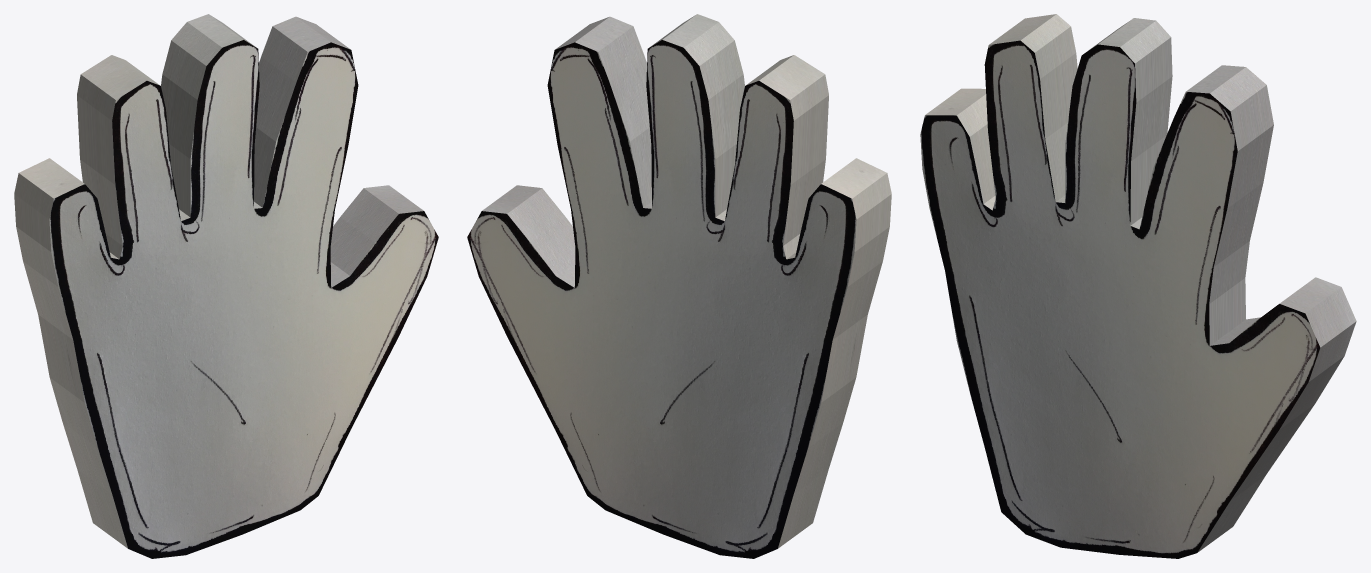
File: small-hand.obj
3 renders of one model, left to right at view 1: azimuth 30°, elevation 25°; view 2: azimuth 150°, elevation 25°; view 3: azimuth 330°, elevation 25°, orthographic. The views are drawn at different scales.
Parts seen in each view (by area): view 1: small-hand; view 2: small-hand; view 3: small-hand.
Boxes of the visible parts, x1=… form: small-hand: x1=14, y1=14, x2=438, y2=558; small-hand: x1=467, y1=14, x2=891, y2=558; small-hand: x1=920, y1=14, x2=1356, y2=558.
Size of the model in its own units: 0.7468 by 0.9188 by 0.1172.
Materials: 1 (1 with a texture image).
